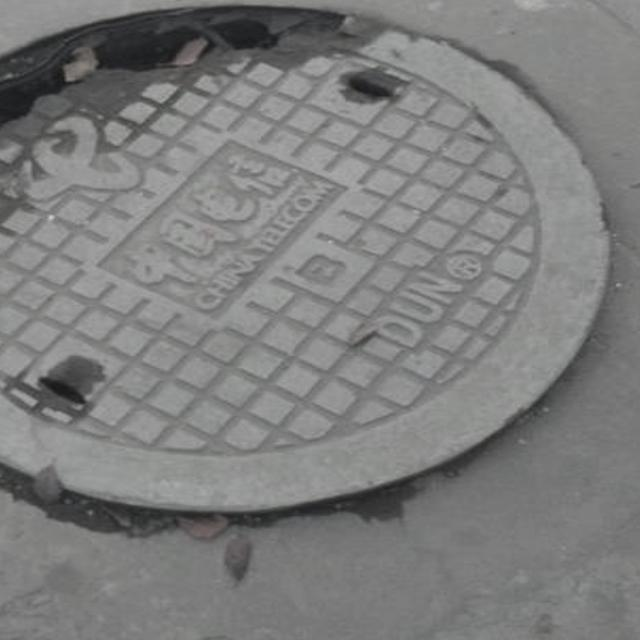broke: (0, 0, 640, 630)
